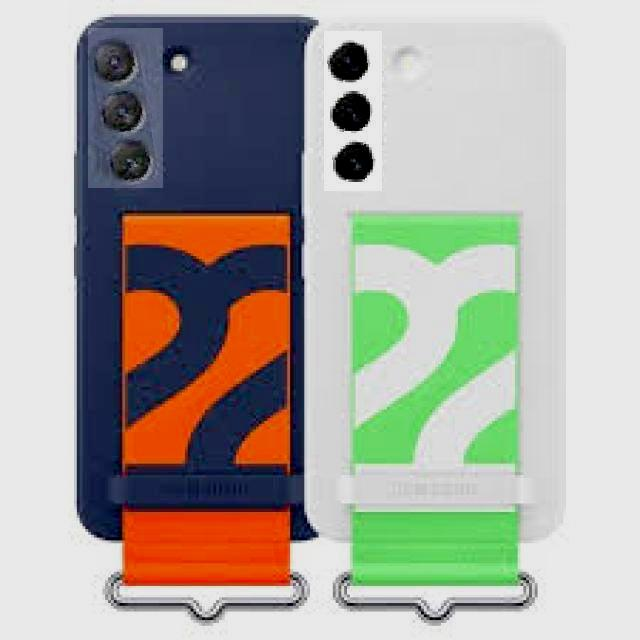lens: (88, 28, 163, 188), (324, 31, 382, 191)
phone: (304, 29, 567, 540), (75, 16, 317, 545)
